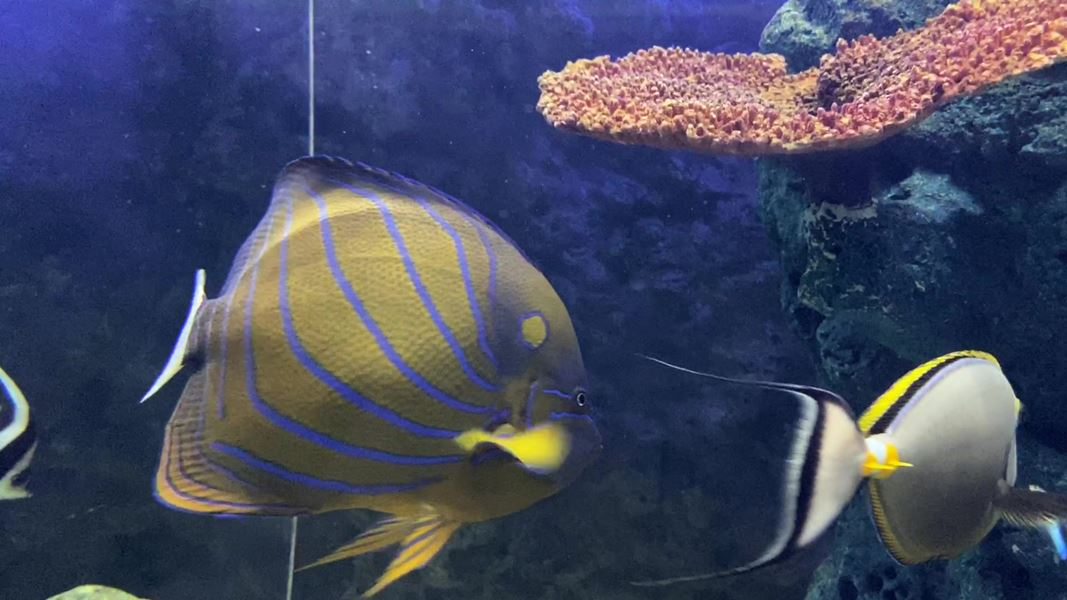Blue ring angelfish: (121, 149, 613, 600)
